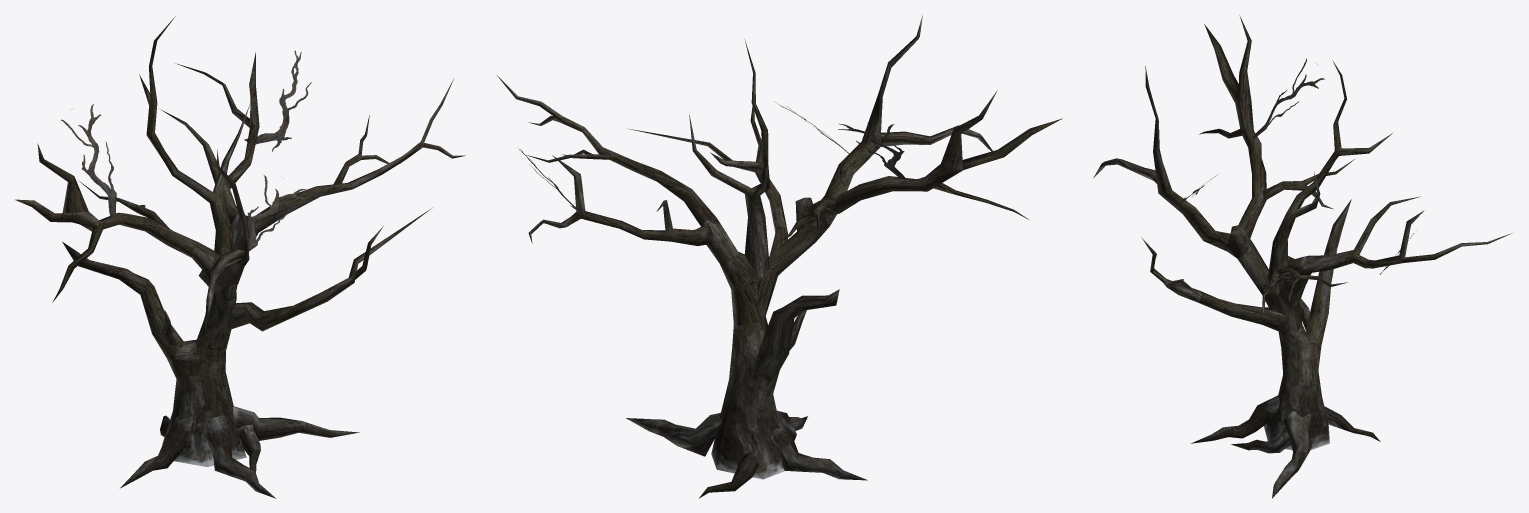
Rendered from yw_wanglingzhita_kushu01.FBX.
3 views of the same model, side by side, from view 1: azimuth 30°, elevation 25°; view 2: azimuth 150°, elevation 25°; view 3: azimuth 270°, elevation 25° (orthographic). The views are drawn at different scales.
Parts seen in each view (by area): view 1: yw_wanglingzhita_kushu01; view 2: yw_wanglingzhita_kushu01; view 3: yw_wanglingzhita_kushu01.
Part boxes in pixels (<box>): yw_wanglingzhita_kushu01: <box>15,16,465,498</box>; yw_wanglingzhita_kushu01: <box>497,15,1062,498</box>; yw_wanglingzhita_kushu01: <box>1093,15,1512,498</box>.
Bounding box in the file's own units: 1318 × 1098 × 1111.
